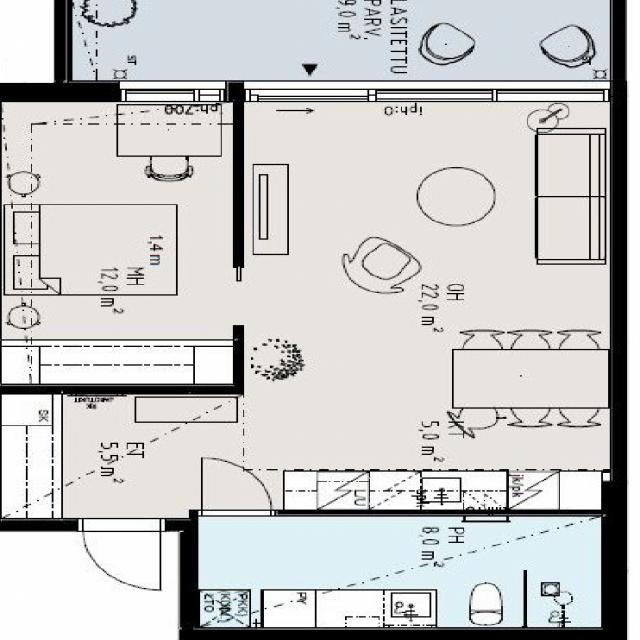door: (83, 518, 161, 589), (203, 459, 271, 516)
